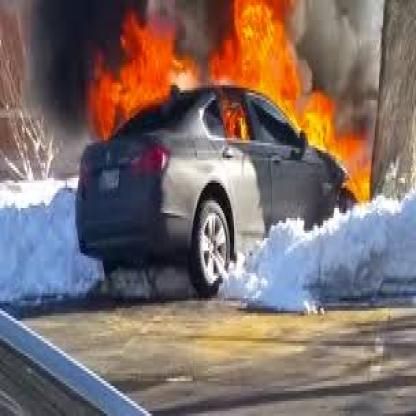fire: (86, 0, 353, 300)
